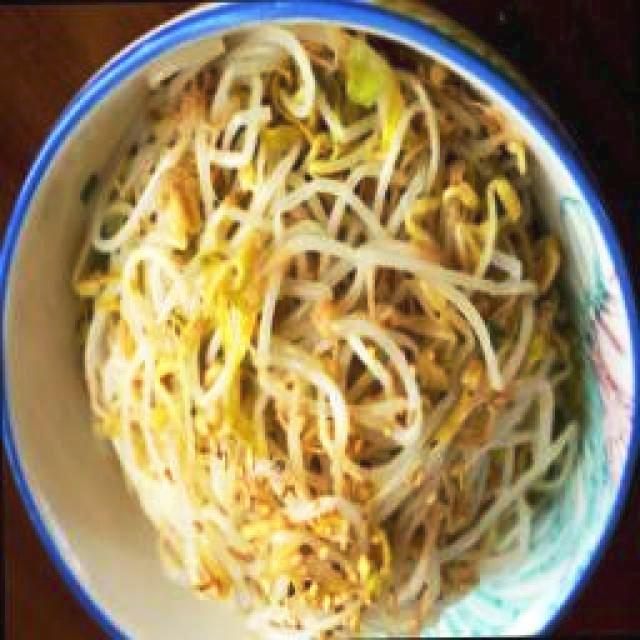mung_bean_sprouts: (77, 37, 571, 629)
